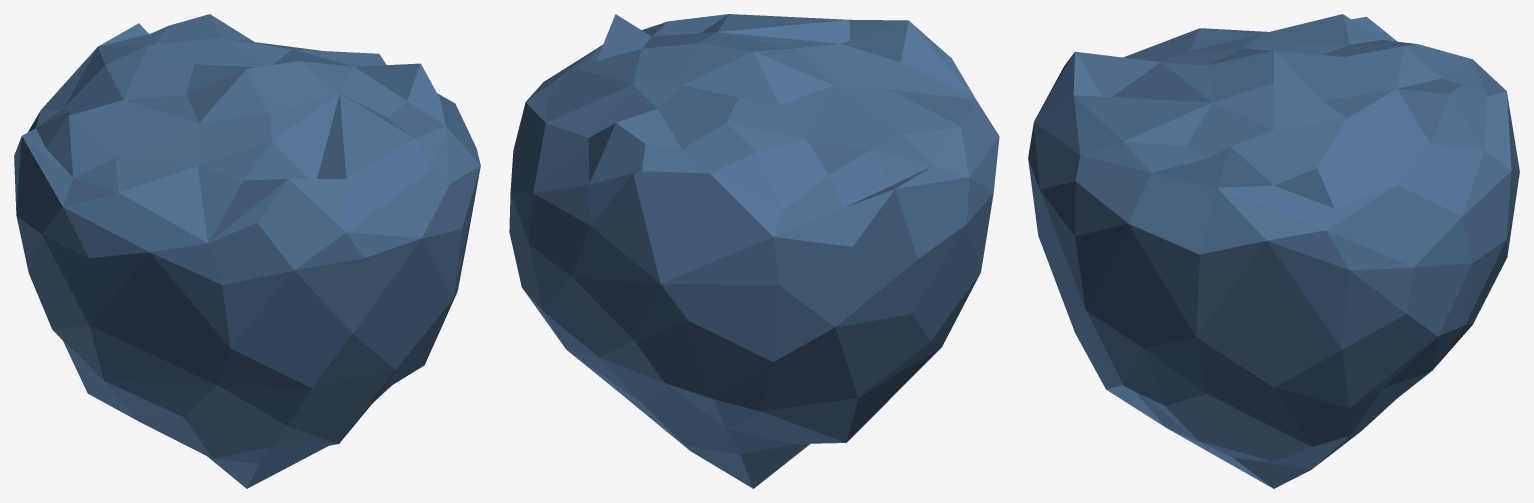
Rendered from island Stakkars.fbx.
The picture shows the model from 3 angles, left to right: view 1: azimuth 30°, elevation 25°; view 2: azimuth 150°, elevation 25°; view 3: azimuth 270°, elevation 25°; orthographic projection. The views are drawn at different scales.
Visible parts, largest first — view 1: Icosphere.001; view 2: Icosphere.001; view 3: Icosphere.001.
Boxes of the visible parts, x1,y1,x2,y2 form: Icosphere.001: [14, 14, 480, 488]; Icosphere.001: [509, 14, 999, 488]; Icosphere.001: [1028, 14, 1519, 488].
Bounding box in the file's own units: 221 × 216 × 220.
